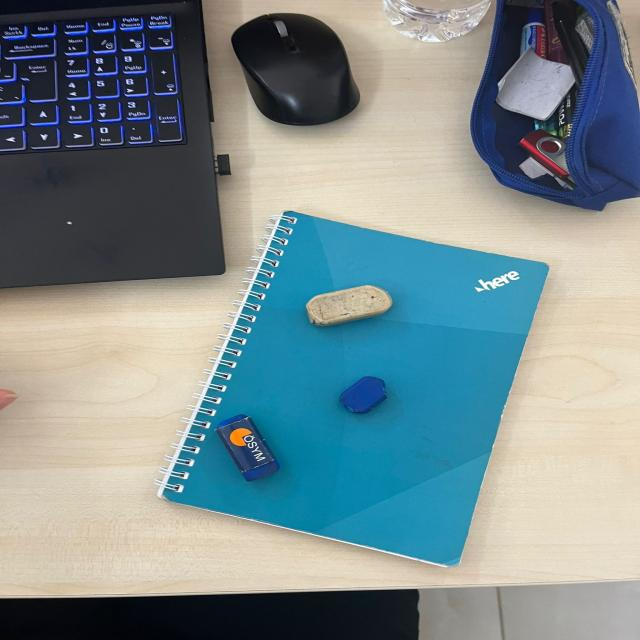eraser: (292, 282, 408, 334), (212, 416, 280, 491), (326, 367, 404, 422)
